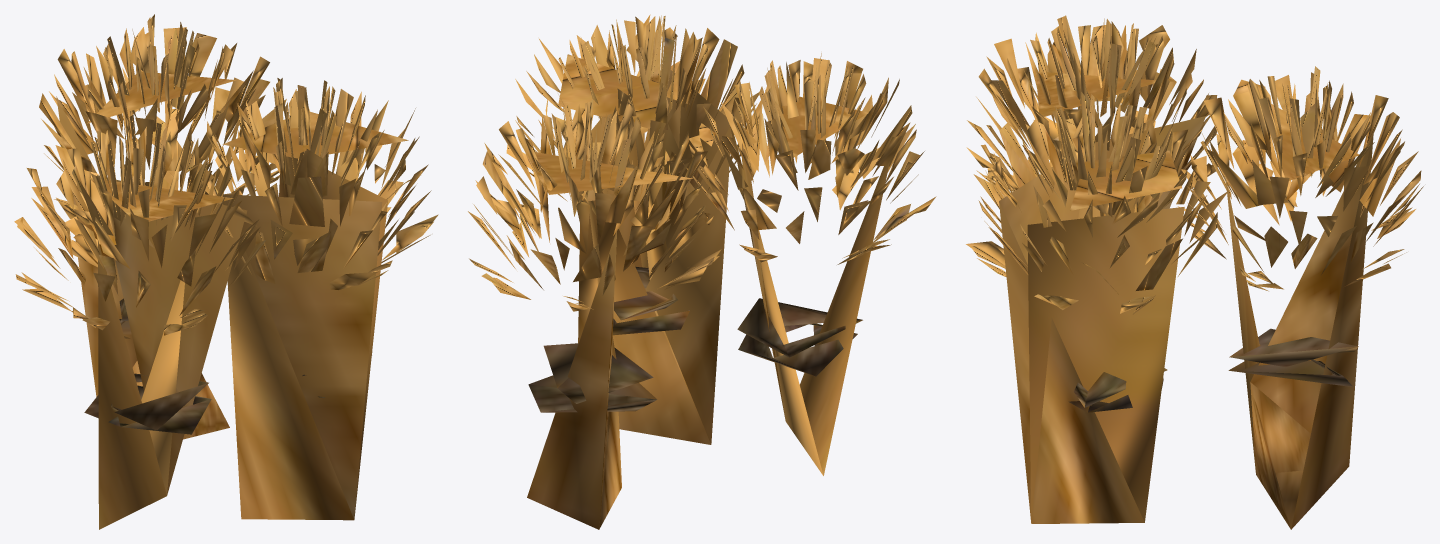
Rendered from ch-gerbes-semis.glb.
3 renders of one model, left to right at view 1: azimuth 30°, elevation 25°; view 2: azimuth 150°, elevation 25°; view 3: azimuth 270°, elevation 25°, orthographic.
Visible parts, largest first — view 1: ch-gerbes-semis; view 2: ch-gerbes-semis; view 3: ch-gerbes-semis.
Part boxes in pixels (left/top/right/bottom): ch-gerbes-semis: left=14, top=14, right=438, bottom=529; ch-gerbes-semis: left=468, top=14, right=936, bottom=529; ch-gerbes-semis: left=966, top=15, right=1423, bottom=529.
Bounding box in the file's own units: 1.84 × 1.85 × 1.85.
Materials: 1 (1 with a texture image).
